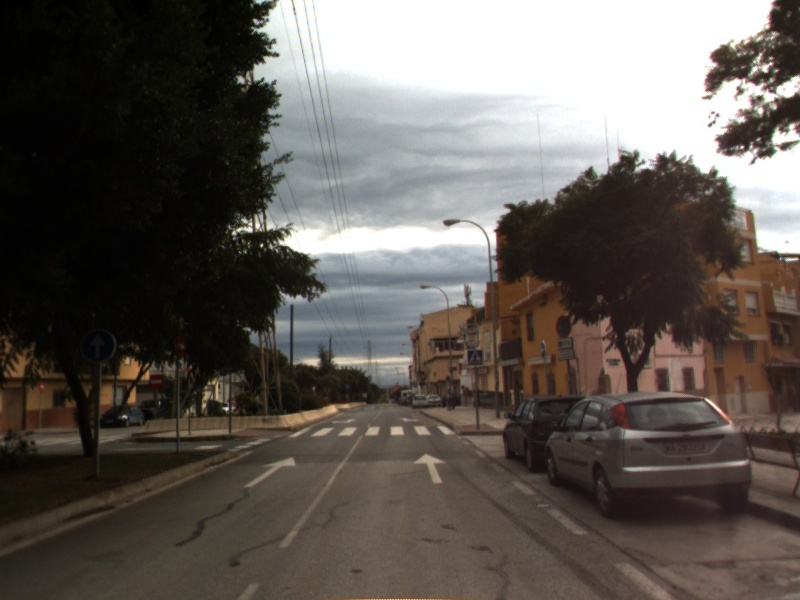STRAIGHT: (240, 454, 298, 490), (411, 451, 449, 485)
STRAIGHT_LEFT: (330, 416, 359, 426)
STRAIGHT_RIGHT: (397, 415, 422, 424)
